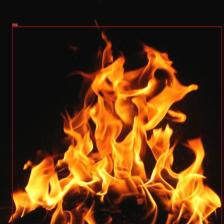fire: (12, 26, 222, 224)
